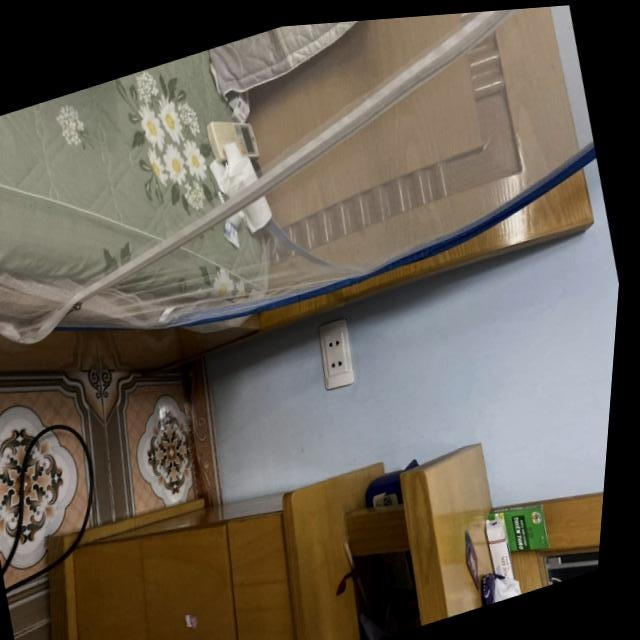outlet: (311, 314, 364, 393)
